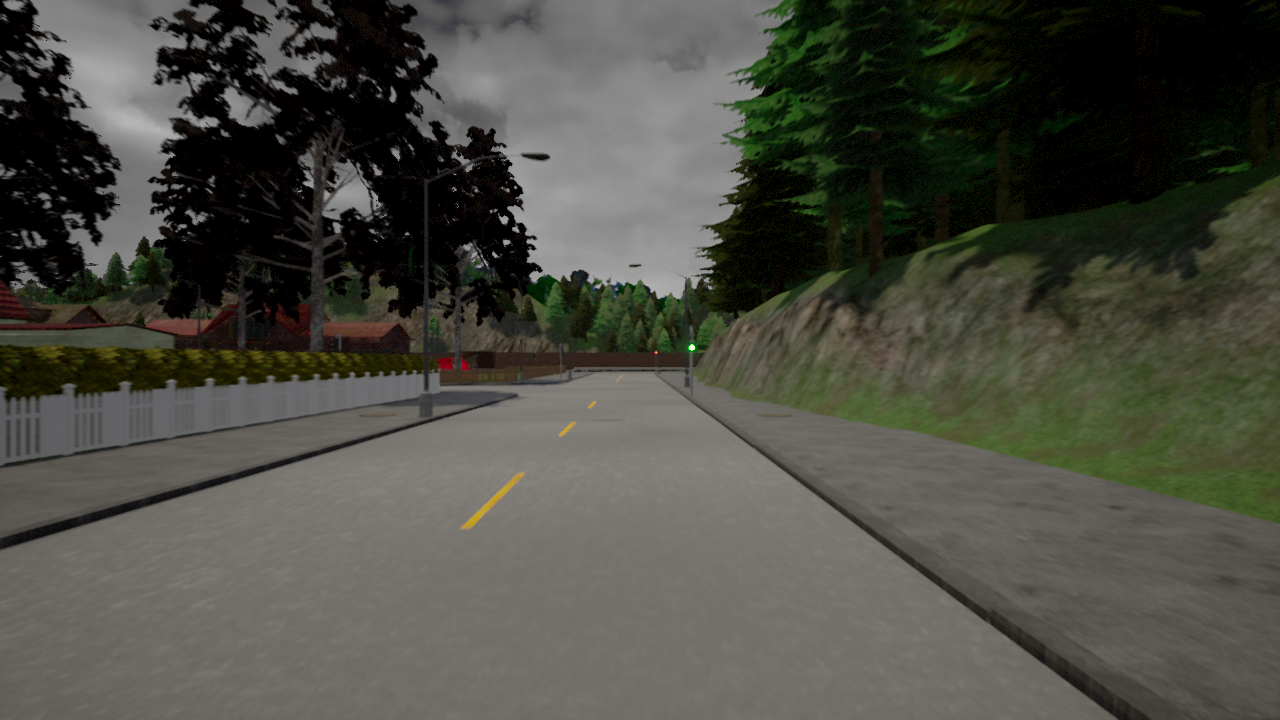green: (687, 331, 697, 353)
